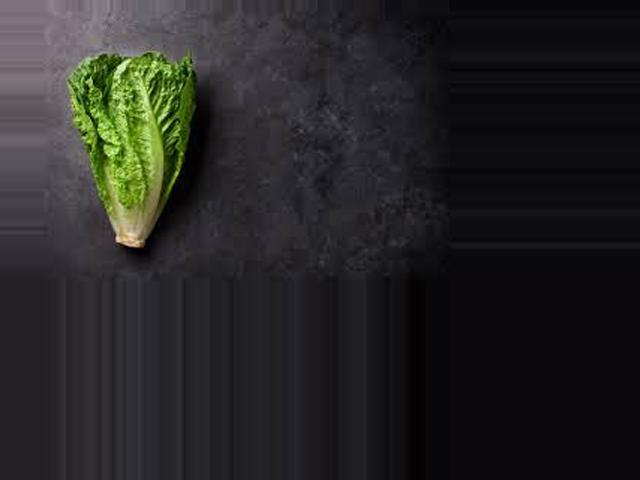lettuce: (63, 51, 202, 261)
